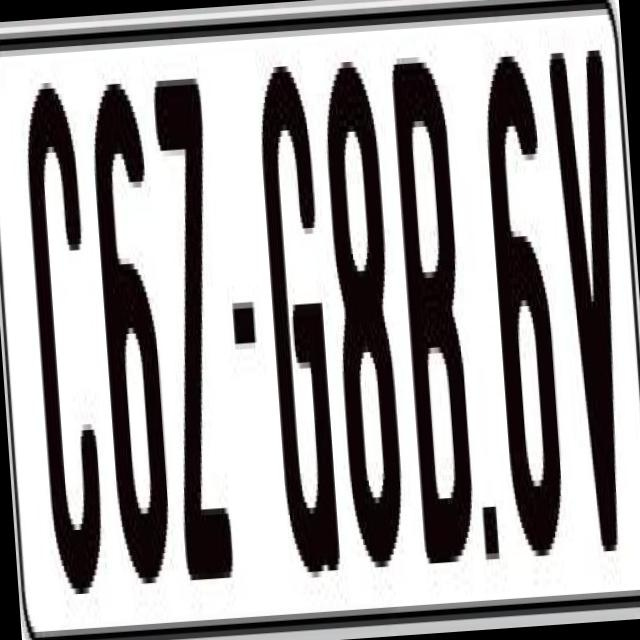6: (479, 48, 572, 569), (86, 64, 176, 573)
8: (317, 42, 408, 586)
B: (388, 54, 484, 564)
C: (21, 76, 107, 584)
G: (255, 65, 347, 608)
V: (543, 45, 627, 552)
Z: (149, 78, 234, 598)
